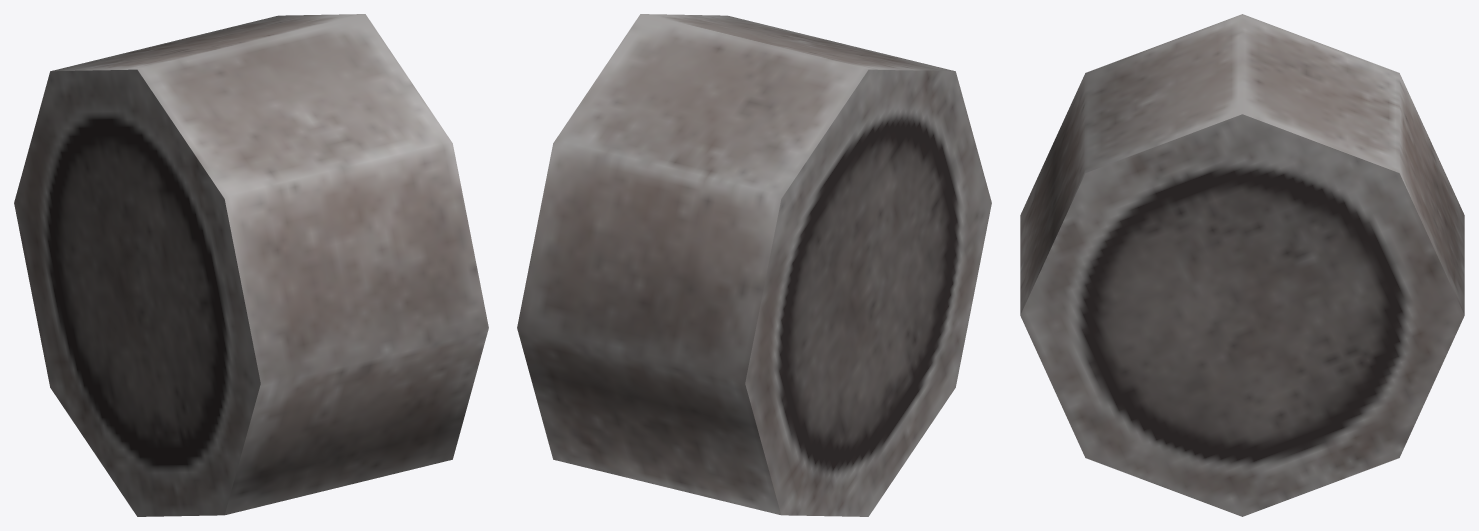
Rendered from NM_ThinTube_Connector_02.fbx.
3 renders of one model, left to right at view 1: azimuth 30°, elevation 25°; view 2: azimuth 150°, elevation 25°; view 3: azimuth 270°, elevation 25°, orthographic. The views are drawn at different scales.
Visible parts, largest first — view 1: Tube_Bolt01_low; view 2: Tube_Bolt01_low; view 3: Tube_Bolt01_low.
Part boxes in pixels (left/top/right/bottom): Tube_Bolt01_low: left=14, top=14, right=488, bottom=516; Tube_Bolt01_low: left=517, top=14, right=991, bottom=516; Tube_Bolt01_low: left=1020, top=14, right=1464, bottom=516.
Bounding box in the file's own units: 6.38 × 11.96 × 11.96.
